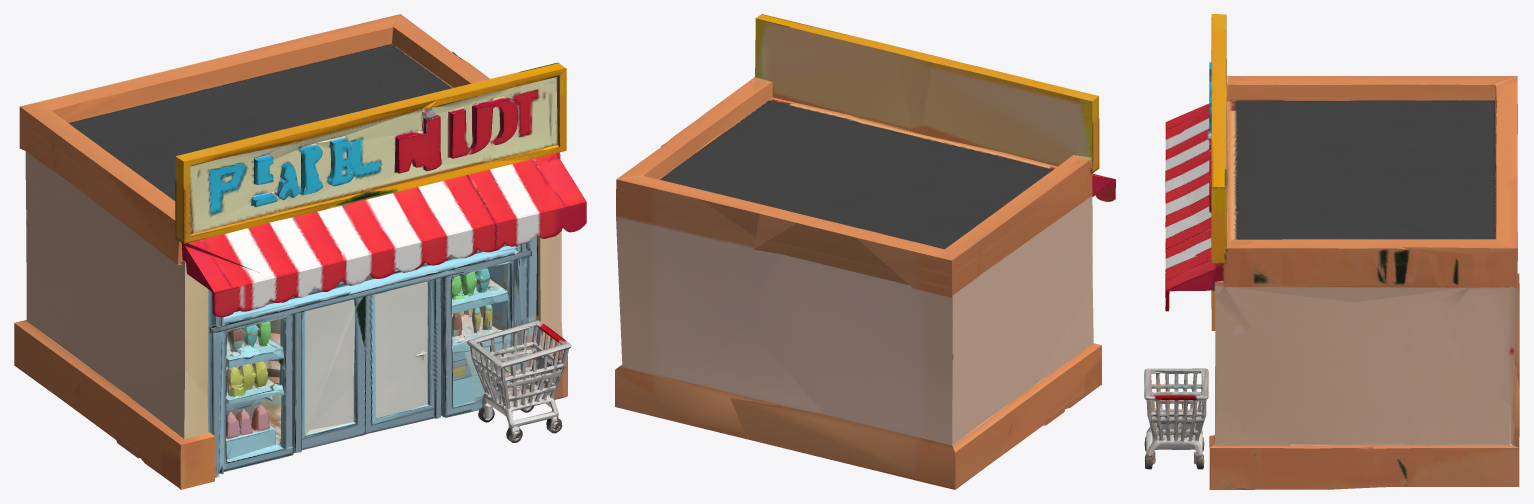
Rendered from mart.glb.
The picture shows the model from 3 angles, left to right: view 1: azimuth 30°, elevation 25°; view 2: azimuth 150°, elevation 25°; view 3: azimuth 270°, elevation 25°; orthographic projection. The views are drawn at different scales.
Size of the model in its own units: 1.9 by 1.54 by 1.73.
1 material, 1 textured.
